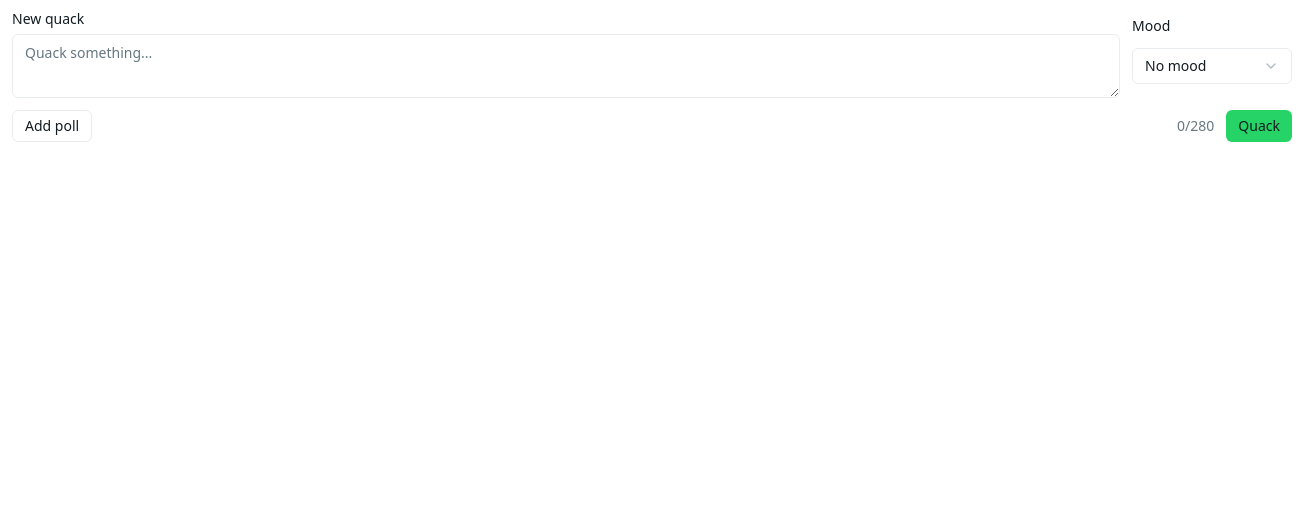
Test: QuackForm › poll › allows at most four answers
Click the button "Add poll".
click(52, 126)  # box 12,110 -> 92,142
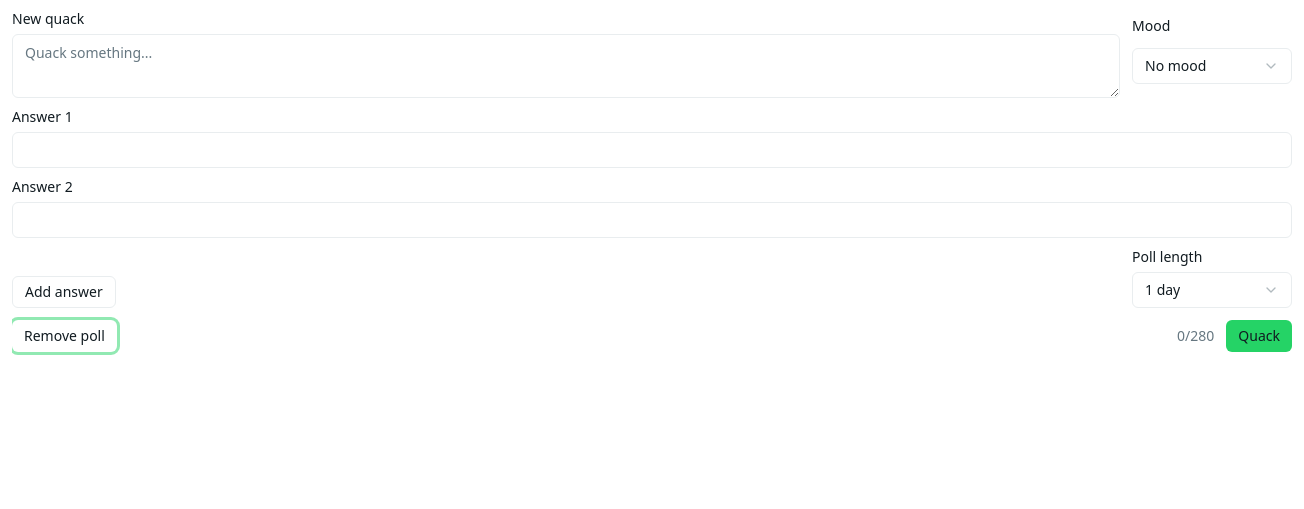
Click the button "Add answer".
click(64, 292)  # box 12,276 -> 116,308
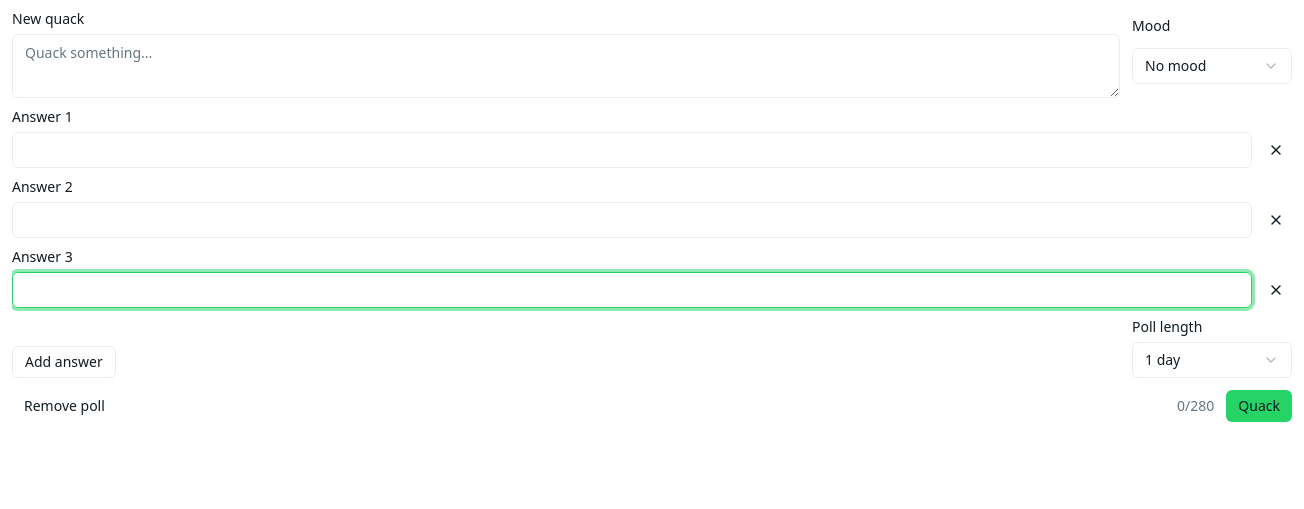
Check: the field labelled "Answer 3" is shown, box 12,272 -> 1252,308
Click the button "Add answer".
click(64, 362)  # box 12,346 -> 116,378
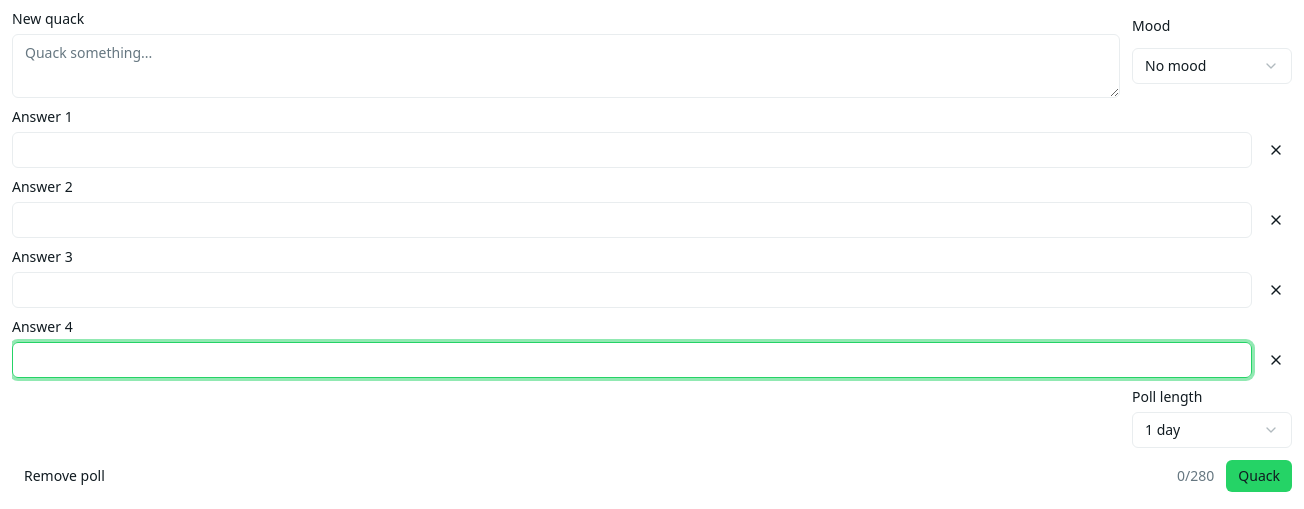
Check: the field labelled "Answer 4" is shown, box 12,342 -> 1252,378
Check: the button "Add answer" is gone
